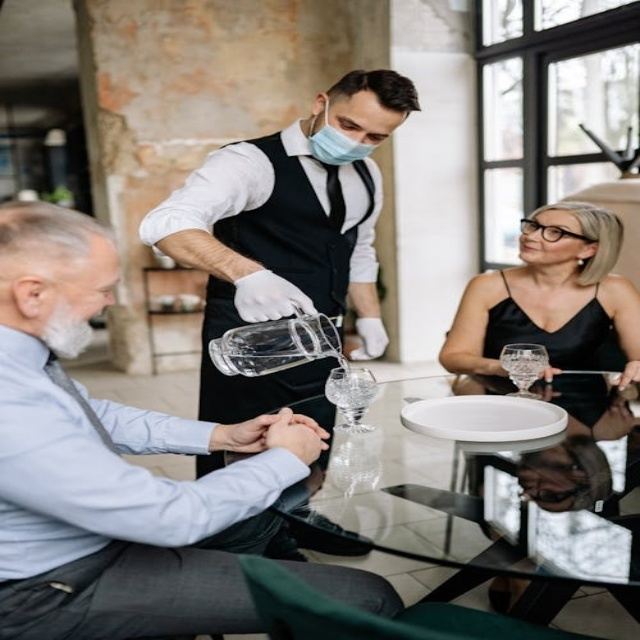Gafas: (519, 218, 594, 243)
Guantes: (232, 269, 317, 323), (352, 318, 389, 360)
Mascara: (308, 99, 382, 165)
Sin_gafas: (332, 108, 393, 145)
Sin_guantes: (268, 403, 333, 466), (215, 407, 295, 454), (589, 386, 638, 442), (525, 364, 564, 392), (610, 360, 640, 393)
Sin_mascara: (45, 310, 106, 356), (517, 241, 548, 260)
